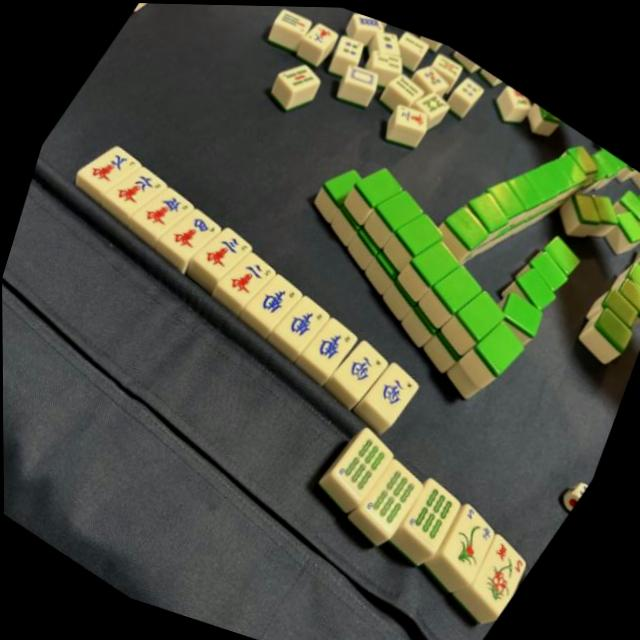bf2: (432, 492, 511, 576)
bs2: (463, 525, 543, 611)
hws: (306, 312, 361, 370), (279, 288, 332, 346), (253, 267, 304, 323)
hww: (364, 353, 426, 420), (336, 332, 393, 392)
sb6: (325, 415, 405, 504), (355, 448, 435, 536), (398, 469, 473, 550)
sc2: (221, 243, 279, 305)
sc3: (196, 217, 257, 280)
sc4: (164, 198, 224, 261)
sc5: (135, 177, 195, 240)
sc6: (109, 156, 168, 218)
sc7: (82, 134, 142, 197)
